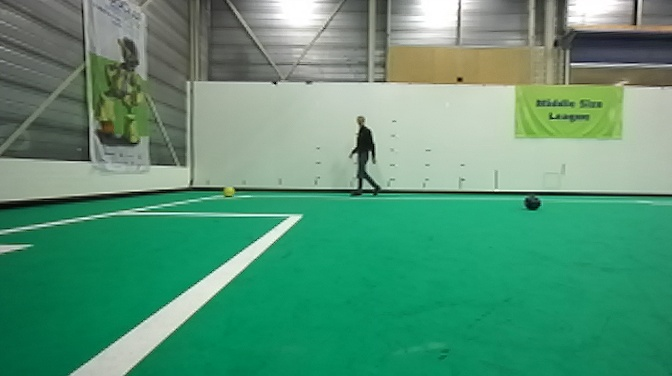ball: (523, 192, 544, 212), (223, 185, 236, 199)
human: (348, 112, 381, 200)
